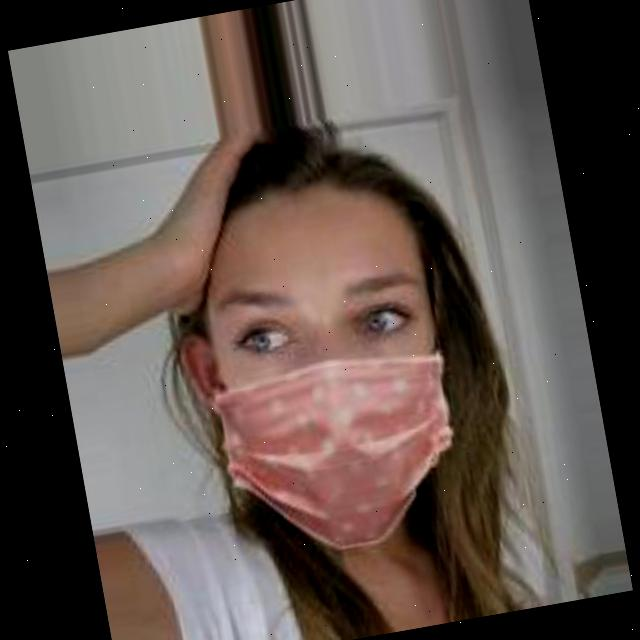suspicion: (110, 92, 532, 564)
